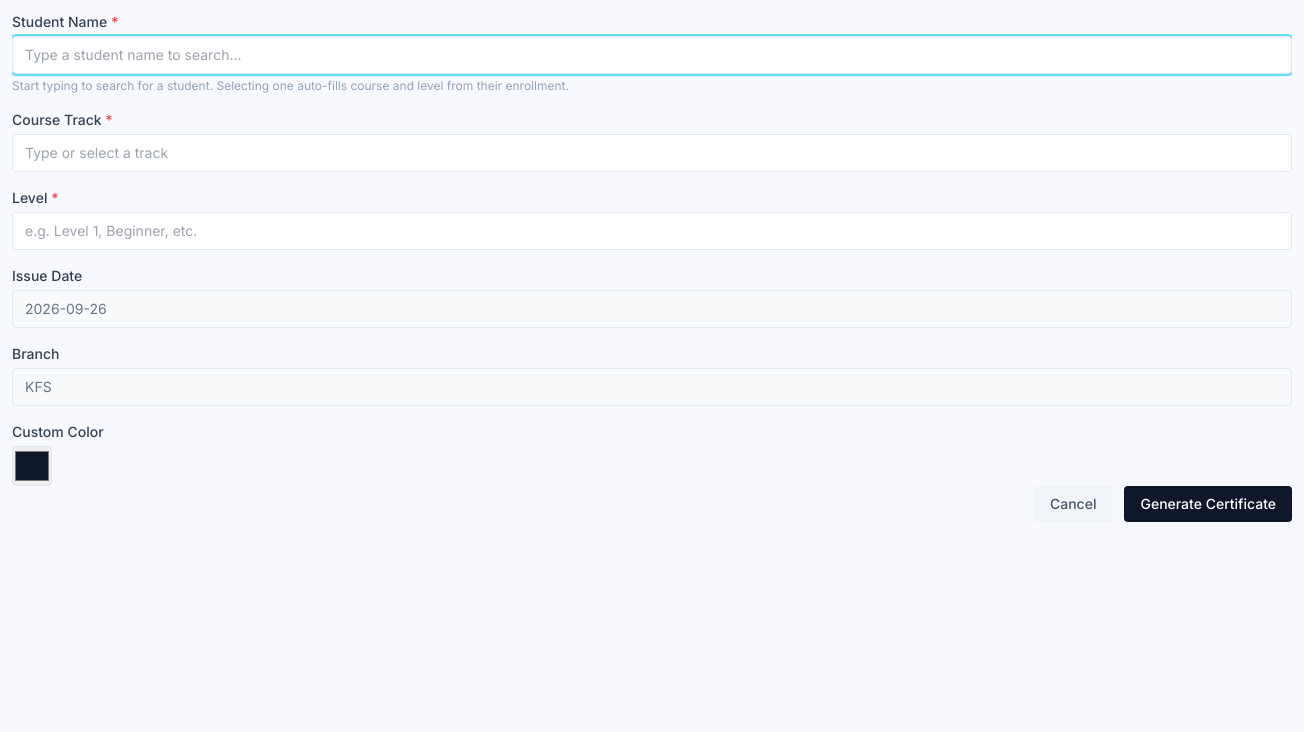
Test case: CertificateForm student combobox (selection state) › closes the list when a click lands outside the combobox
Type "Ahmed" into the field labelled "Student Name *" at coordinates (652, 55), box [12,36,1292,74]
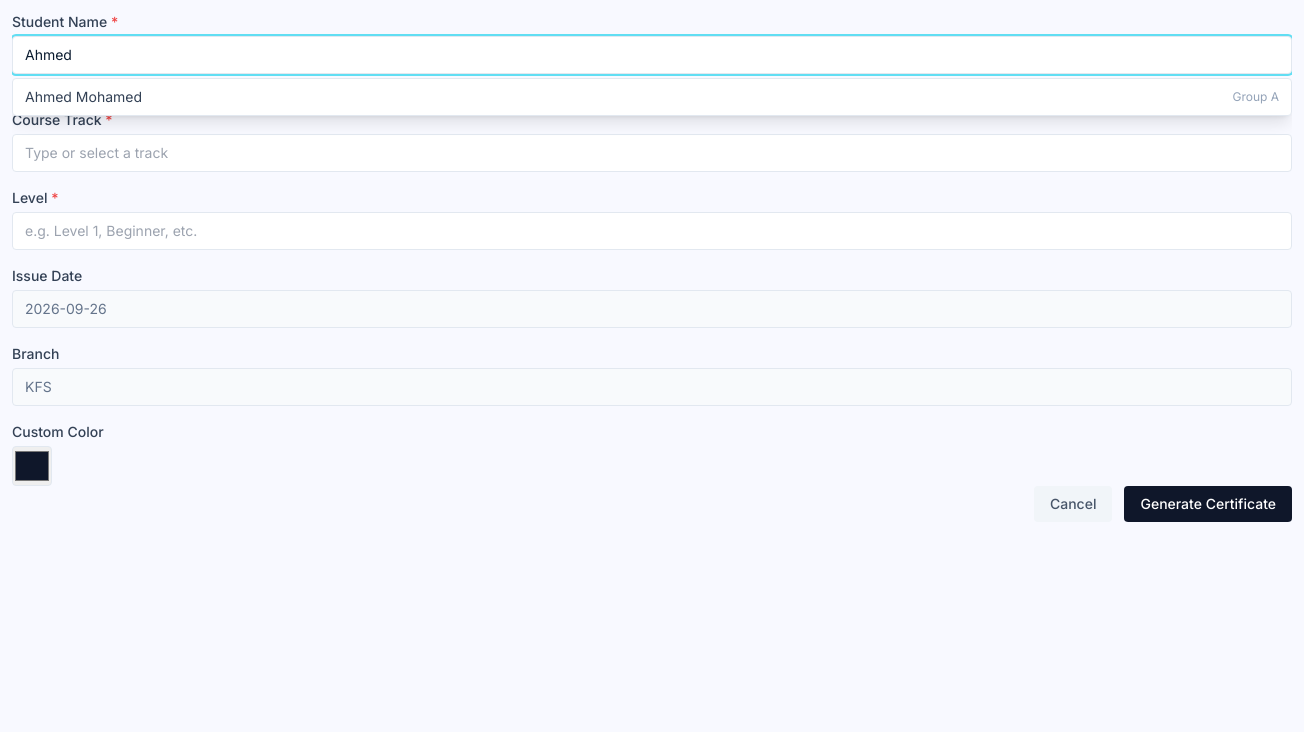
Now the list is shown, box [12,78,1292,116]
Press the mouse on the element that starts with "Student Name" at coordinates (652, 372), box [12,12,1292,731]
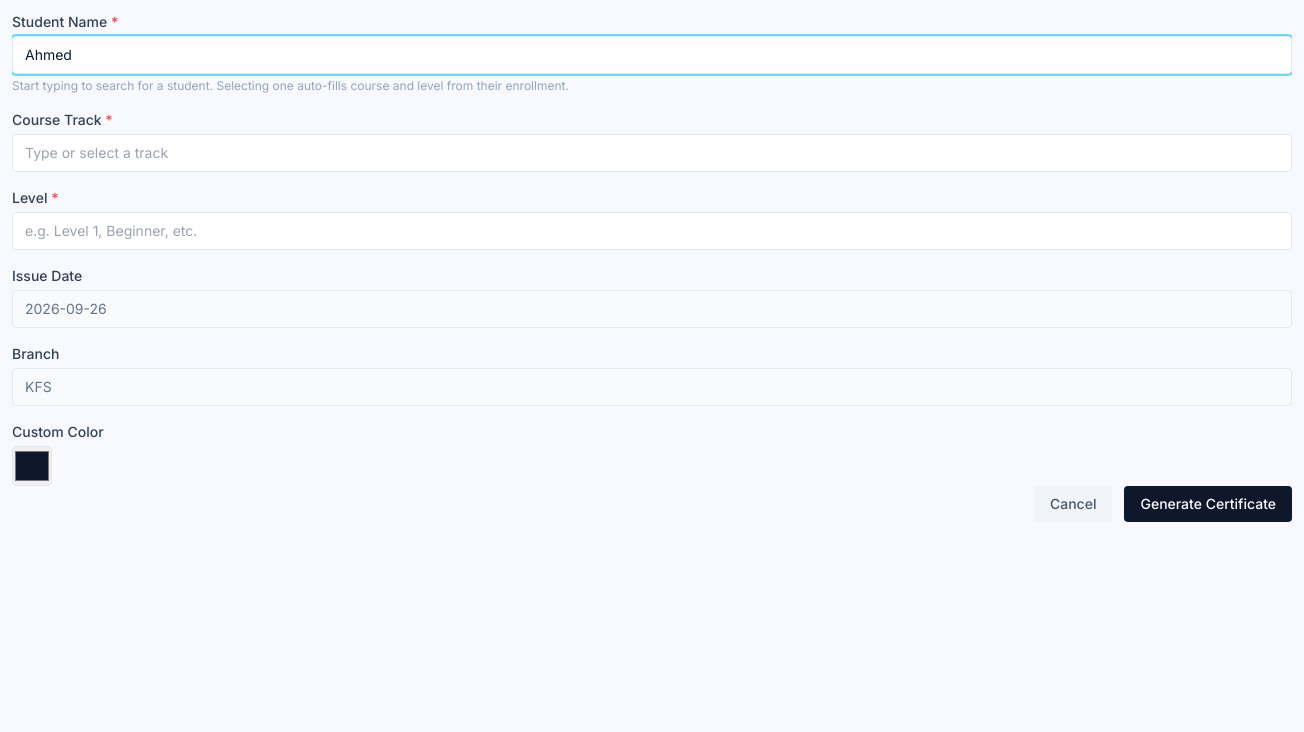
Now the list is gone
